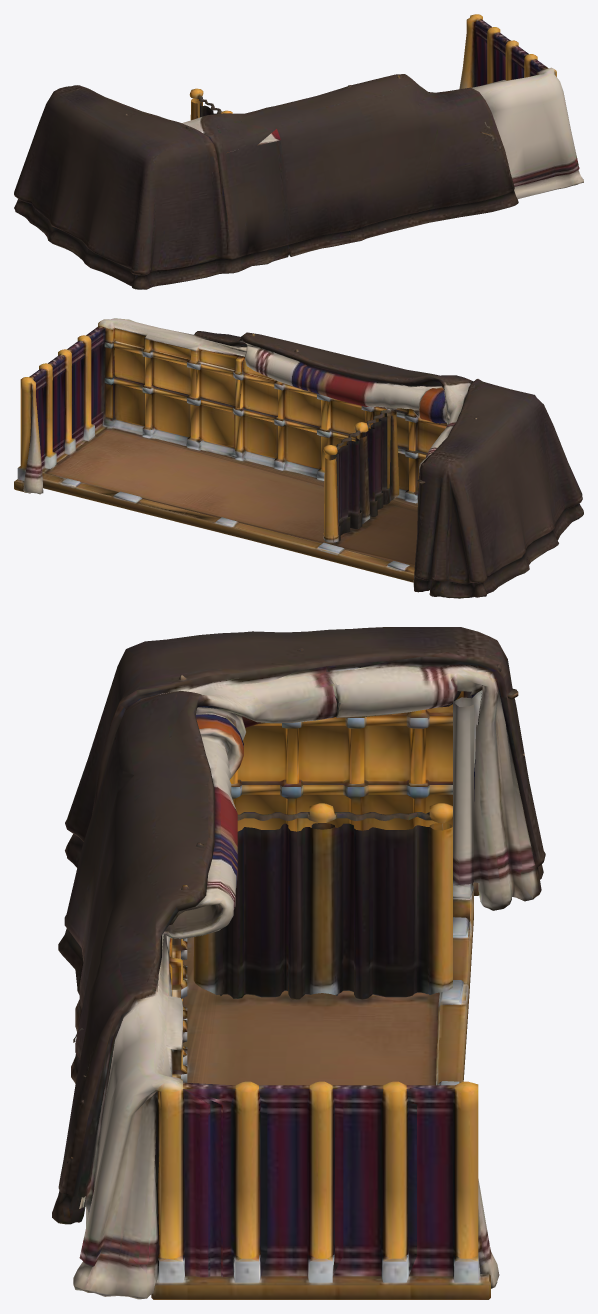
The model's file is sanctuary-tabernacle-cutaway-tripo-v31-v1.glb.
The picture shows the model from 3 angles, top to bottom: view 1: azimuth 30°, elevation 25°; view 2: azimuth 150°, elevation 25°; view 3: azimuth 270°, elevation 25°; orthographic projection. The views are drawn at different scales.
Visible parts, largest first — view 1: tripo_node_56f22204-ea6d-4a97-838d-3b08c7123a54; view 2: tripo_node_56f22204-ea6d-4a97-838d-3b08c7123a54; view 3: tripo_node_56f22204-ea6d-4a97-838d-3b08c7123a54.
Boxes of the visible parts, x1=… form: tripo_node_56f22204-ea6d-4a97-838d-3b08c7123a54: x1=14, y1=14, x2=583, y2=289; tripo_node_56f22204-ea6d-4a97-838d-3b08c7123a54: x1=14, y1=318, x2=583, y2=598; tripo_node_56f22204-ea6d-4a97-838d-3b08c7123a54: x1=52, y1=627, x2=545, y2=1299.
Bounding box in the file's own units: 1 × 0.2798 × 0.4579.
1 material, 1 textured.
